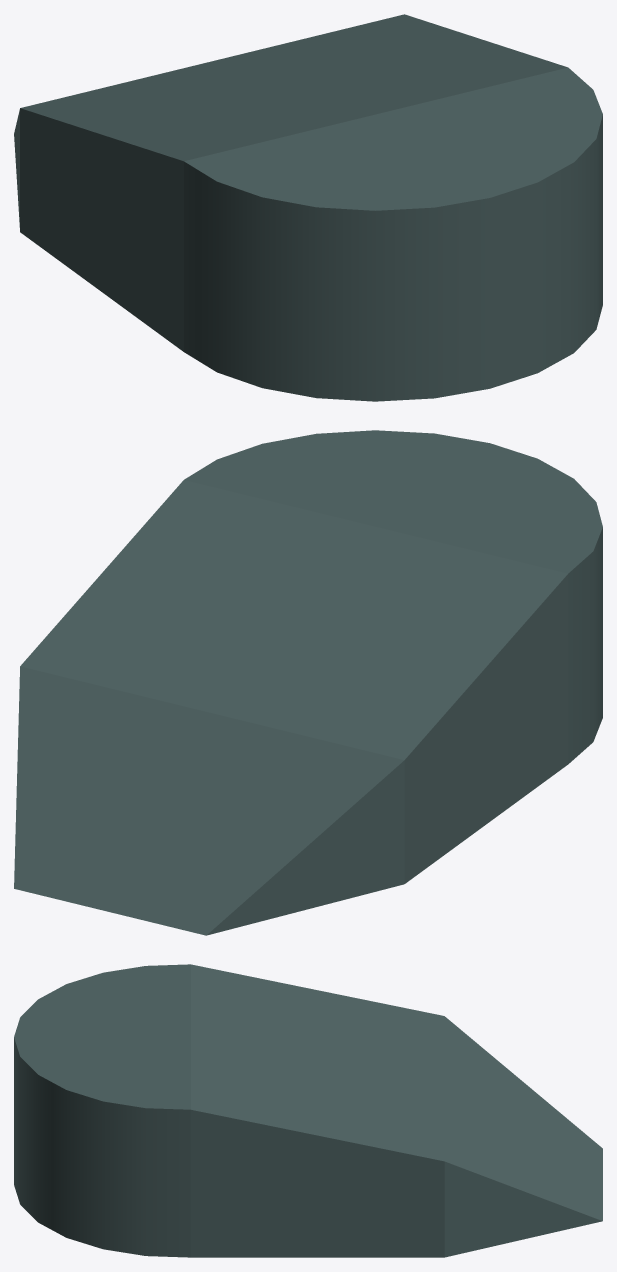
Rendered from computerMouse.fbx.
3 views of the same model, one above another, from view 1: azimuth 30°, elevation 25°; view 2: azimuth 150°, elevation 25°; view 3: azimuth 270°, elevation 25° (orthographic). The views are drawn at different scales.
Parts seen in each view (by area): view 1: computerMouse; view 2: computerMouse; view 3: computerMouse.
Boxes of the visible parts, bbox=[...] form: computerMouse: bbox=[14, 14, 602, 401]; computerMouse: bbox=[14, 430, 602, 935]; computerMouse: bbox=[14, 964, 602, 1257].
Bounding box in the file's own units: 0.497 × 0.2357 × 0.851.
